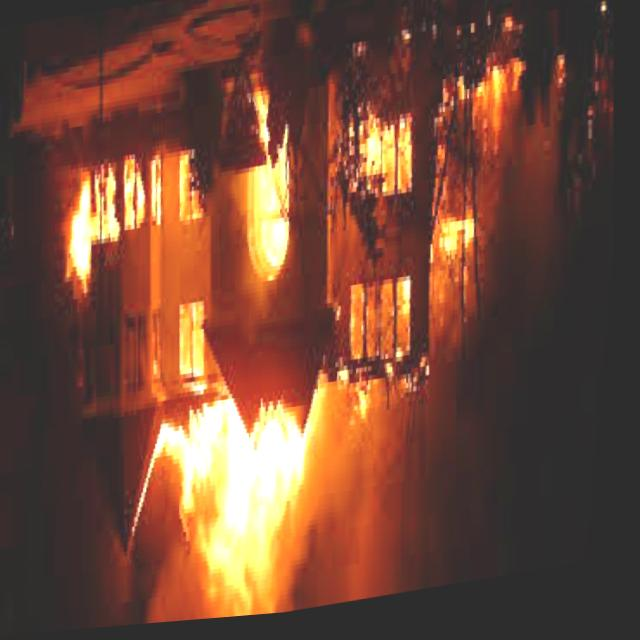Fire: (163, 383, 355, 617), (61, 137, 161, 277)
Smoke: (287, 362, 448, 617)
